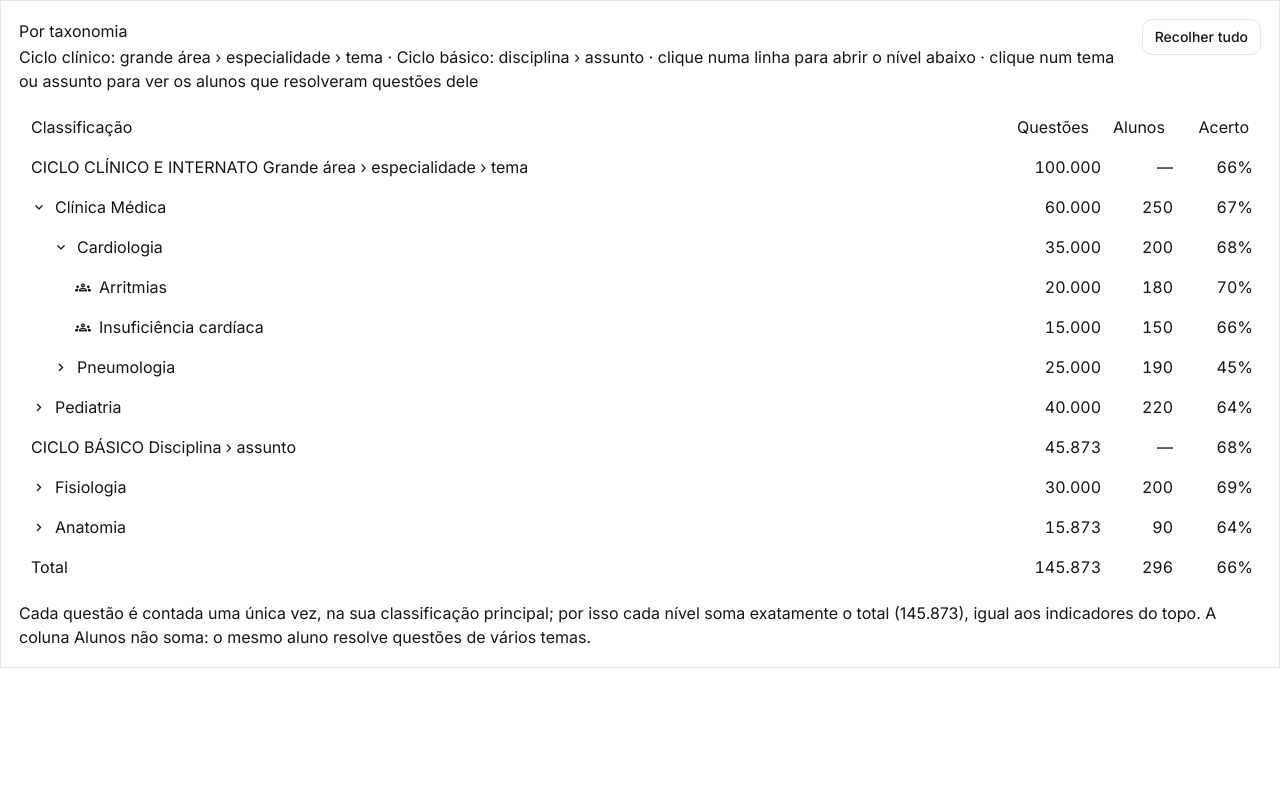
it: GavetaTaxonomia — pop-up de alunos (§12.3) › assunto: sobretítulo "Ciclo básico › Fisiologia"
The image size is (1280, 800).
Step 1. Click the button with aria-label "Abrir Fisiologia" → (79, 487), box [31,475,126,499]
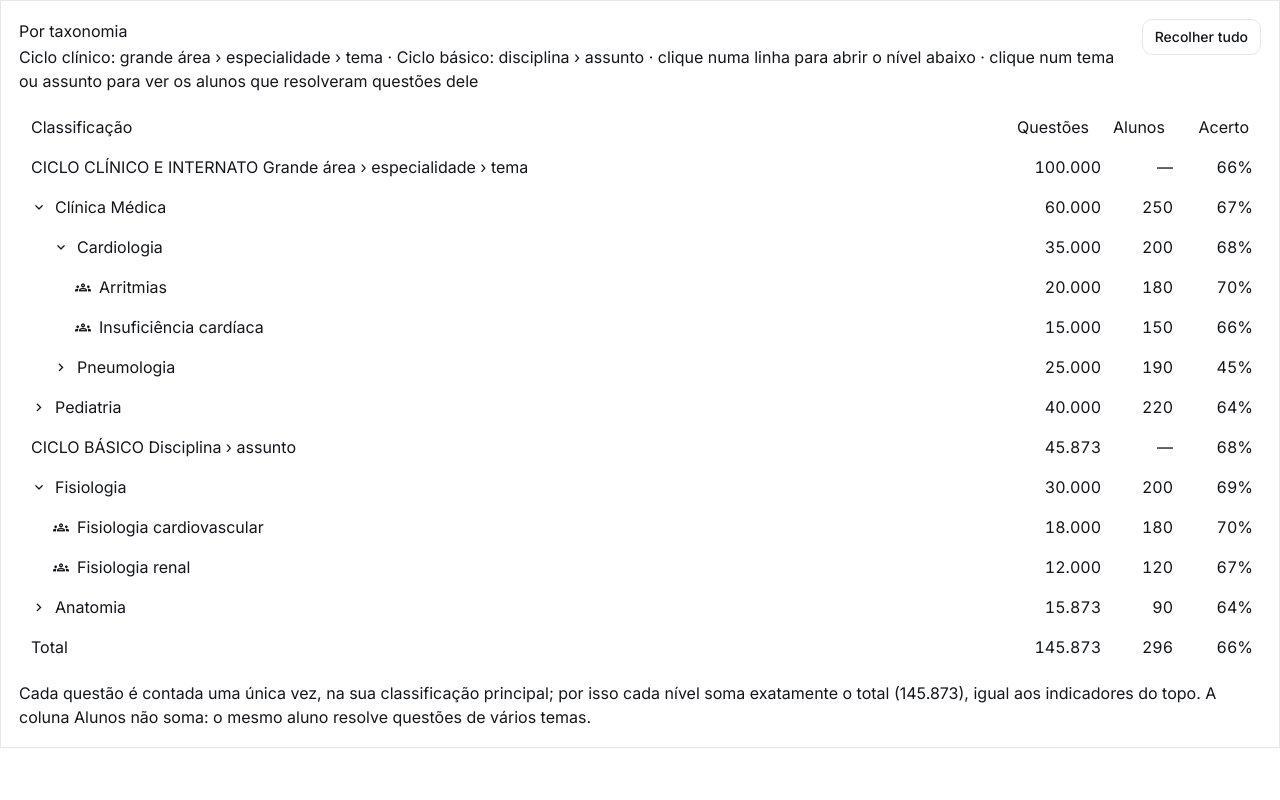
Step 2. Click the button with aria-label "Ver alunos do assunto Fisiologia cardiovascular" → (158, 527), box [53,515,264,539]
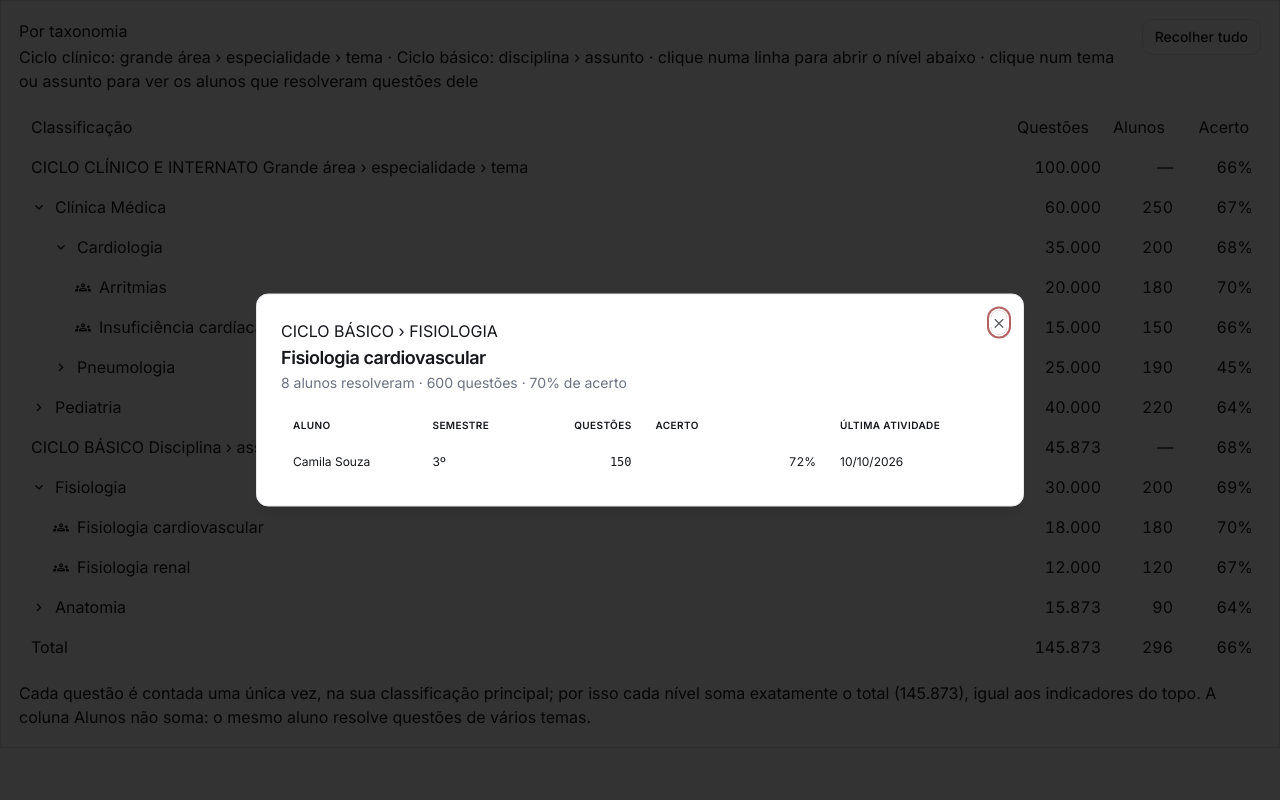
Check: the text "Ciclo básico › Fisiologia" is shown, box [281,320,498,340]
